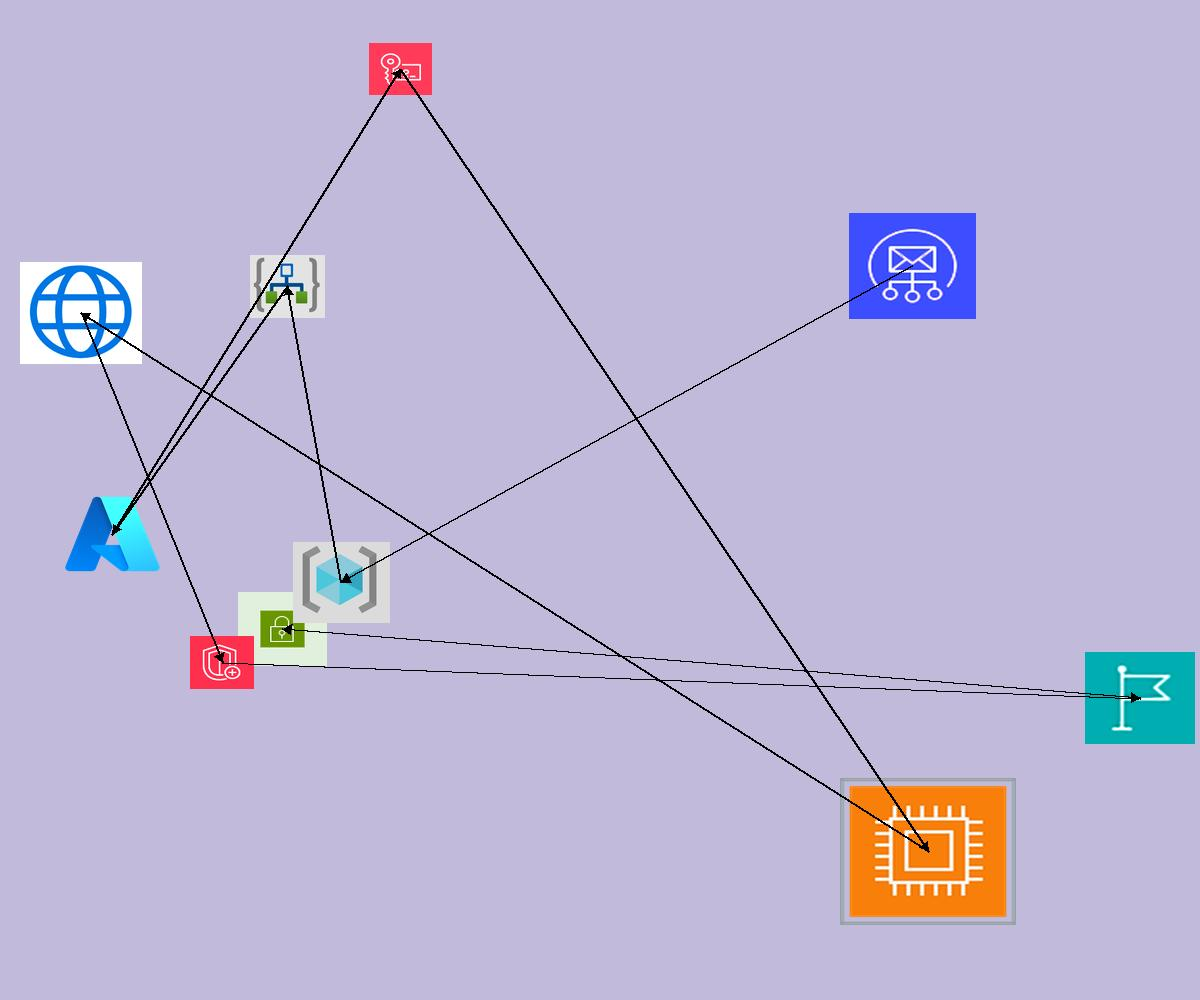AWS-Category_Compute: (840, 778, 1016, 925)
AWS-Key-Management-Service: (369, 43, 432, 95)
AWS-Public-subnet: (238, 592, 327, 666)
AWS-Region: (1085, 652, 1195, 744)
AWS-Shield: (190, 636, 254, 689)
AWS-Simple-Email-Service: (849, 213, 976, 319)
Azure_http: (20, 262, 142, 364)
Azure_integration-204-Logic-Apps: (250, 255, 325, 318)
Azure_resource_group: (293, 542, 390, 623)
Azure_services: (61, 491, 164, 577)
